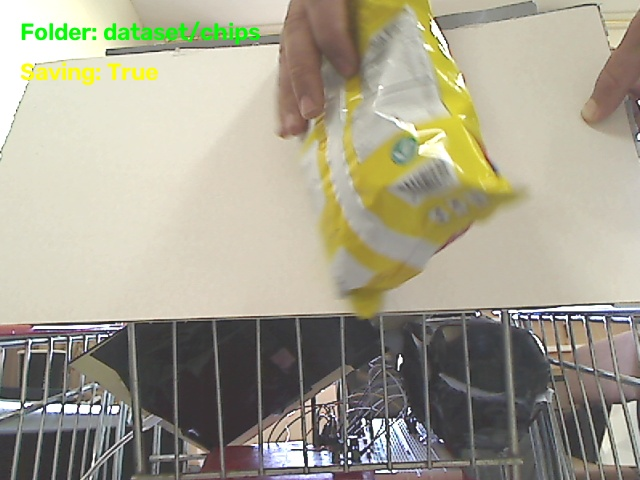chips: (302, 0, 516, 318)
